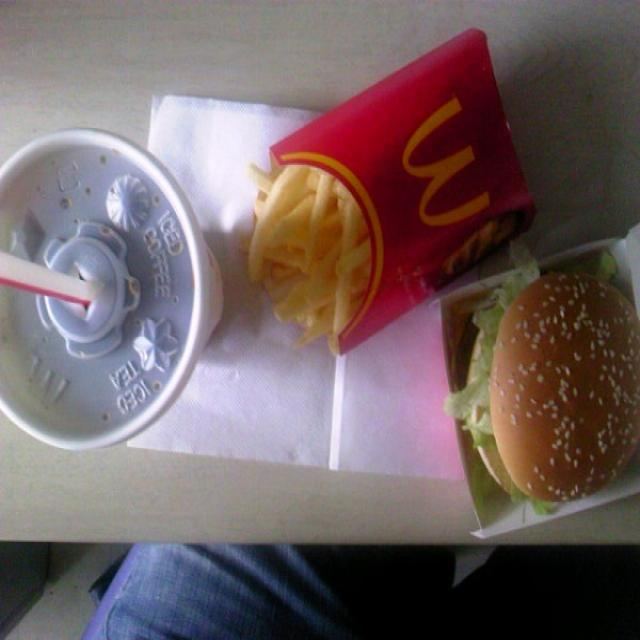Hamburger: (437, 260, 640, 520)
